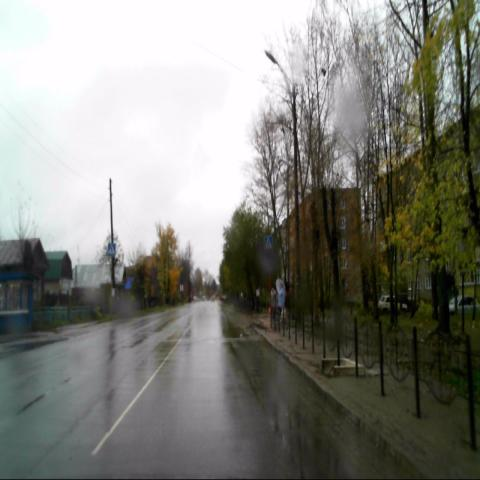5_19_1: (263, 235, 273, 251)
